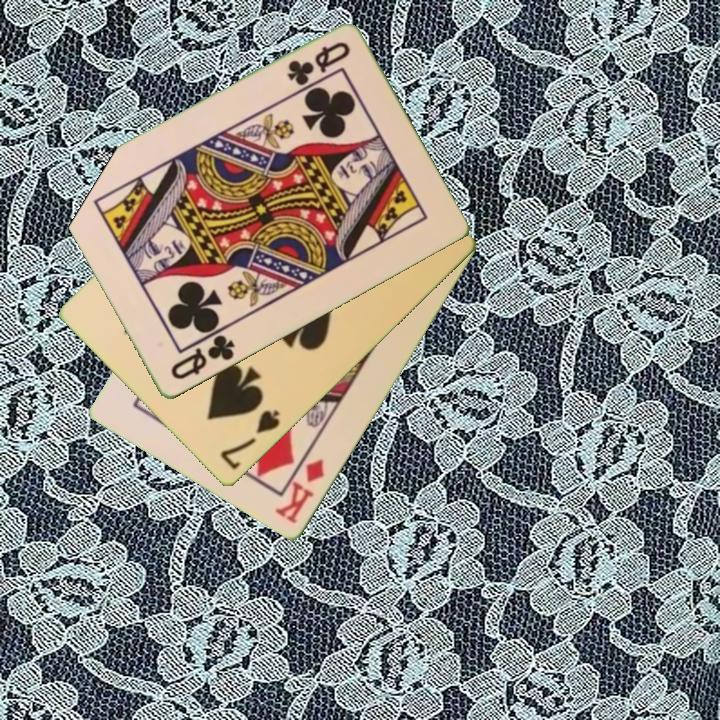7s: (216, 406, 283, 473)
Kd: (272, 455, 328, 527)
Qc: (166, 331, 238, 384), (283, 38, 353, 89)
